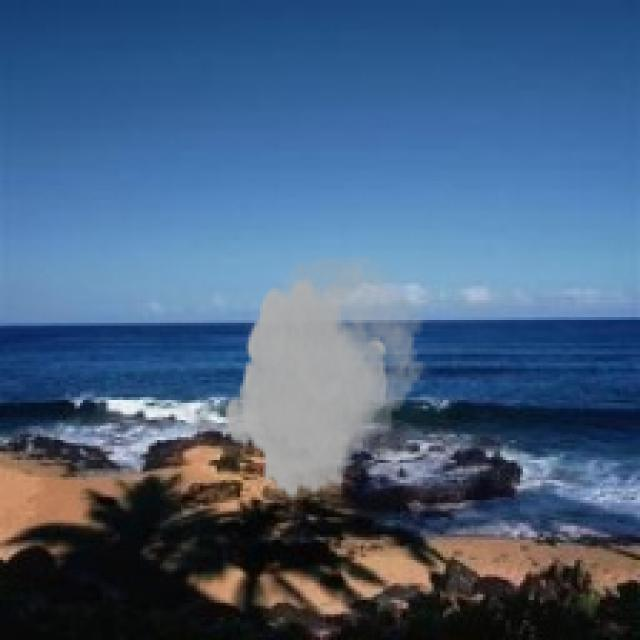Smoke: (223, 257, 431, 503)
